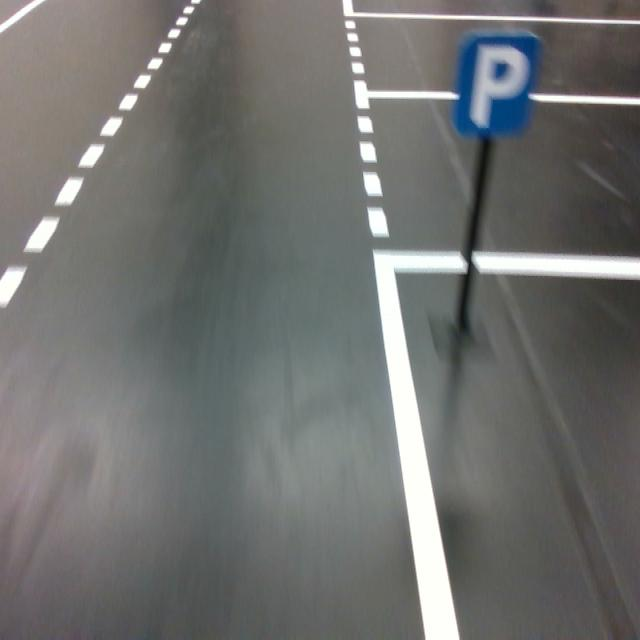parking-sign: (453, 30, 541, 138)
